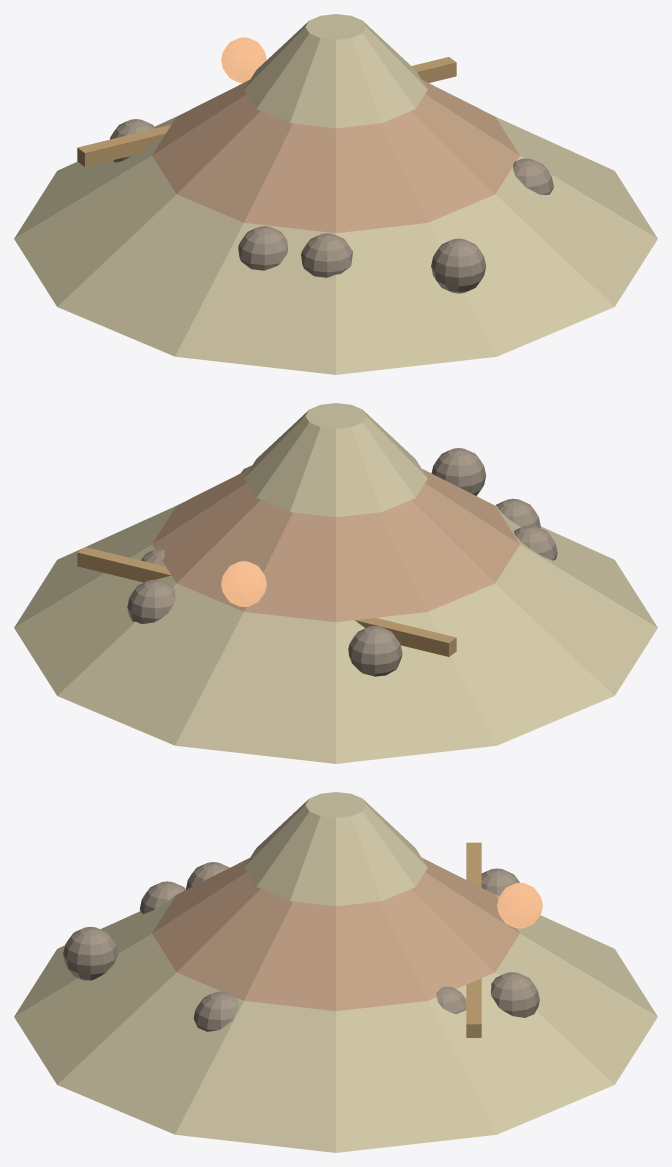
File: mine_iron.glb
3 renders of one model, top to bottom at view 1: azimuth 30°, elevation 25°; view 2: azimuth 150°, elevation 25°; view 3: azimuth 270°, elevation 25°, orthographic.
Parts seen in each view (by area): view 1: mine_besi_bukit1.001, mine_besi_bukit2.001, mine_besi_bukit3.001, mine_besi_batuan_5.001, mine_besi_batuan_3.001, mine_besi_beam_-1.001, mine_besi_batuan_4.001, mine_besi_kecer.001, mine_besi_batuan_6.001, mine_besi_beam_1.001, mine_besi_batuan_2.001; view 2: mine_besi_bukit1.001, mine_besi_bukit2.001, mine_besi_bukit3.001, mine_besi_batuan_2.001, mine_besi_beam_1.001, mine_besi_batuan_5.001, mine_besi_batuan_1.001, mine_besi_beam_-1.001, mine_besi_kecer.001, mine_besi_batuan_4.001, mine_besi_batuan_3.001; view 3: mine_besi_bukit1.001, mine_besi_bukit2.001, mine_besi_bukit3.001, mine_besi_batuan_5.001, mine_besi_batuan_1.001, mine_besi_kecer.001, mine_besi_batuan_6.001, mine_besi_beam_1.001, mine_besi_batuan_3.001, mine_besi_batuan_2.001, mine_besi_beam_-1.001, mine_besi_batuan_0.001 (+1 smaller).
Boxes of the visible parts, bbox=[...] form: mine_besi_bukit1.001: bbox=[14, 117, 657, 374]; mine_besi_bukit2.001: bbox=[152, 80, 519, 233]; mine_besi_bukit3.001: bbox=[244, 14, 427, 128]; mine_besi_batuan_5.001: bbox=[431, 238, 486, 293]; mine_besi_batuan_3.001: bbox=[301, 233, 352, 277]; mine_besi_beam_-1.001: bbox=[77, 124, 170, 166]; mine_besi_batuan_4.001: bbox=[238, 226, 287, 270]; mine_besi_kecer.001: bbox=[221, 37, 266, 83]; mine_besi_batuan_6.001: bbox=[513, 158, 553, 194]; mine_besi_beam_1.001: bbox=[411, 57, 456, 82]; mine_besi_batuan_2.001: bbox=[110, 119, 155, 162]; mine_besi_bukit1.001: bbox=[14, 506, 657, 763]; mine_besi_bukit2.001: bbox=[152, 469, 519, 622]; mine_besi_bukit3.001: bbox=[244, 403, 427, 517]; mine_besi_batuan_2.001: bbox=[348, 626, 402, 676]; mine_besi_beam_1.001: bbox=[77, 547, 171, 582]; mine_besi_batuan_5.001: bbox=[431, 448, 486, 495]; mine_besi_batuan_1.001: bbox=[127, 579, 175, 624]; mine_besi_beam_-1.001: bbox=[355, 618, 456, 656]; mine_besi_kecer.001: bbox=[221, 561, 266, 606]; mine_besi_batuan_4.001: bbox=[514, 525, 557, 560]; mine_besi_batuan_3.001: bbox=[495, 498, 540, 527]; mine_besi_bukit1.001: bbox=[14, 895, 657, 1152]; mine_besi_bukit2.001: bbox=[152, 858, 519, 1011]; mine_besi_bukit3.001: bbox=[244, 792, 427, 906]; mine_besi_batuan_5.001: bbox=[63, 926, 117, 980]; mine_besi_batuan_1.001: bbox=[491, 972, 539, 1017]; mine_besi_kecer.001: bbox=[497, 882, 542, 928]; mine_besi_batuan_6.001: bbox=[193, 991, 238, 1031]; mine_besi_beam_1.001: bbox=[466, 978, 481, 1037]; mine_besi_batuan_3.001: bbox=[140, 881, 185, 914]; mine_besi_batuan_2.001: bbox=[481, 868, 519, 896]; mine_besi_beam_-1.001: bbox=[466, 842, 481, 887]; mine_besi_batuan_0.001: bbox=[436, 986, 466, 1014].
Size of the model in its own units: 4.2 by 1.52 by 4.2.
